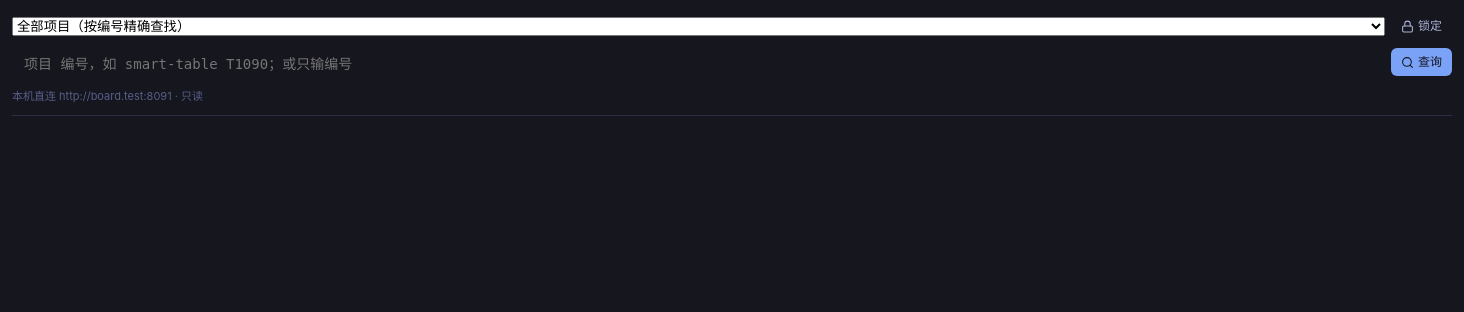
accepts 「项目 编号」 when unlocked and shows clear errors
Type "amail AM-42" into the field named "任务编号". click: (698, 64)
box: [12, 48, 1385, 80]
Click the button "查询". click: (1422, 62)
box: [1391, 48, 1452, 76]
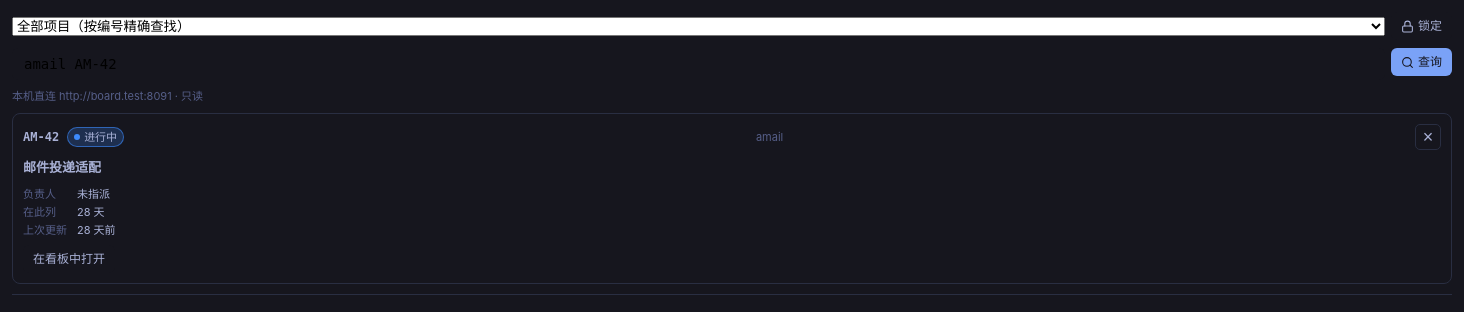
Check: the element named "任务 AM-42" is shown, box [12, 112, 1452, 284]
Replace the text in the field named "任务编号" with "nope T1". click: (698, 64)
box: [12, 48, 1385, 80]
Click the button "查询". click: (1422, 62)
box: [1391, 48, 1452, 76]
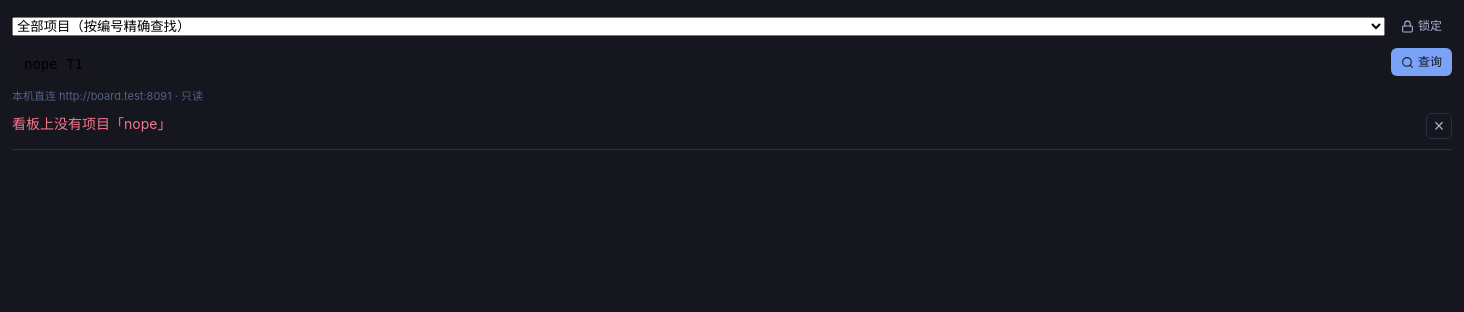
Check: the message reads "看板上没有项目「nope」", box [12, 114, 171, 132]
Replace the text in the field named "任务编号" with "smart-table T9999". click: (698, 64)
box: [12, 48, 1385, 80]
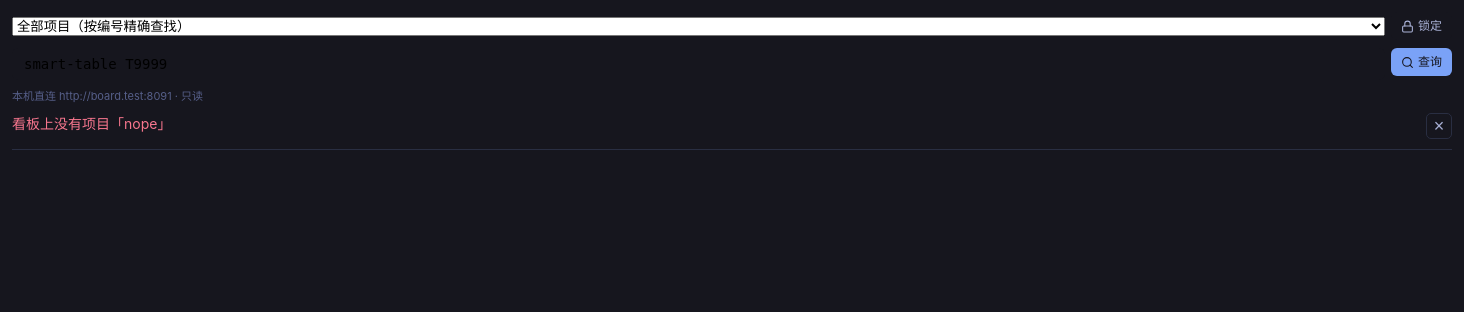
Click the button "查询". click: (1422, 62)
box: [1391, 48, 1452, 76]
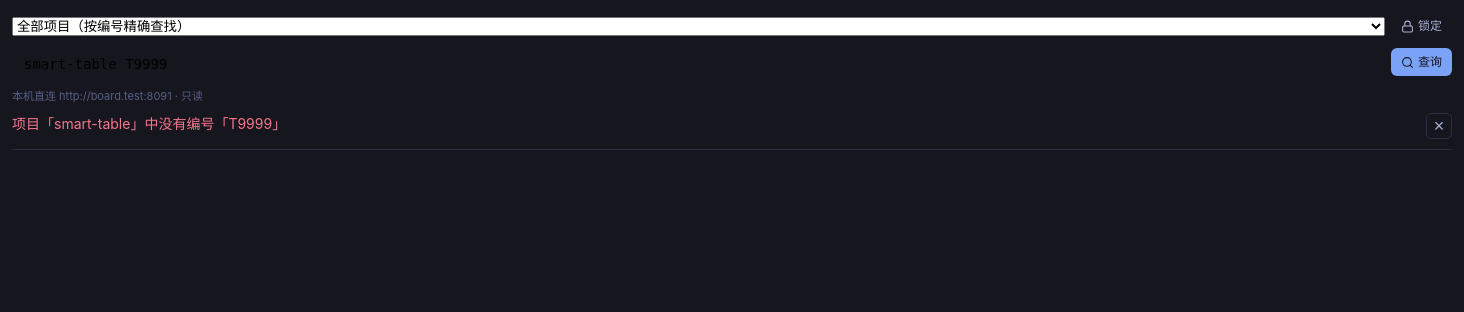
Check: the message reads "项目「smart-table」中没有编号「T9999」", box [12, 114, 286, 132]
Replace the text in the field named "任务编号" with "smart-table T1090". click: (698, 64)
box: [12, 48, 1385, 80]
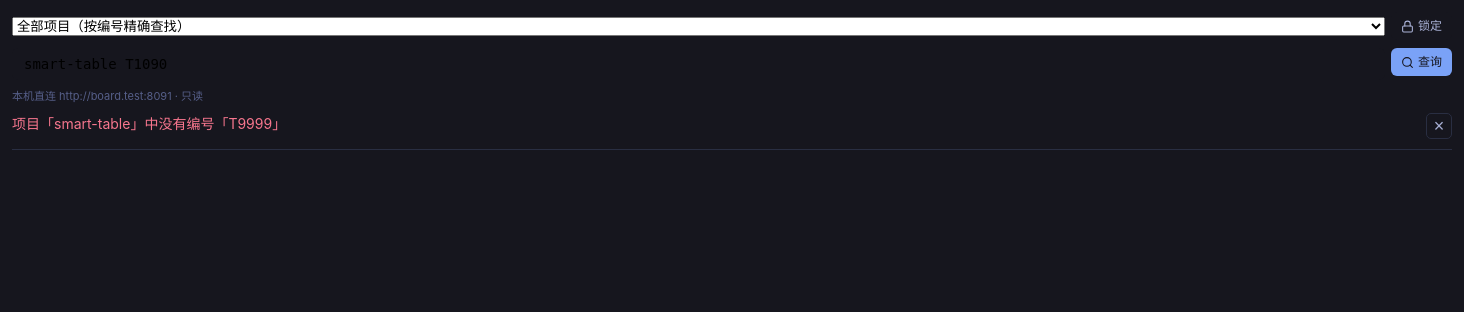
Click the button "查询". click: (1422, 62)
box: [1391, 48, 1452, 76]
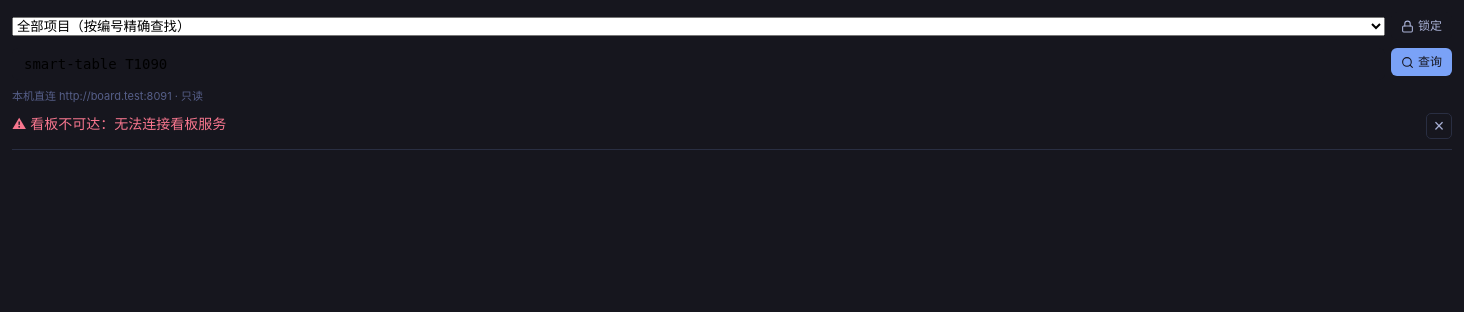
Check: the message shows "看板不可达", box [30, 114, 226, 132]
